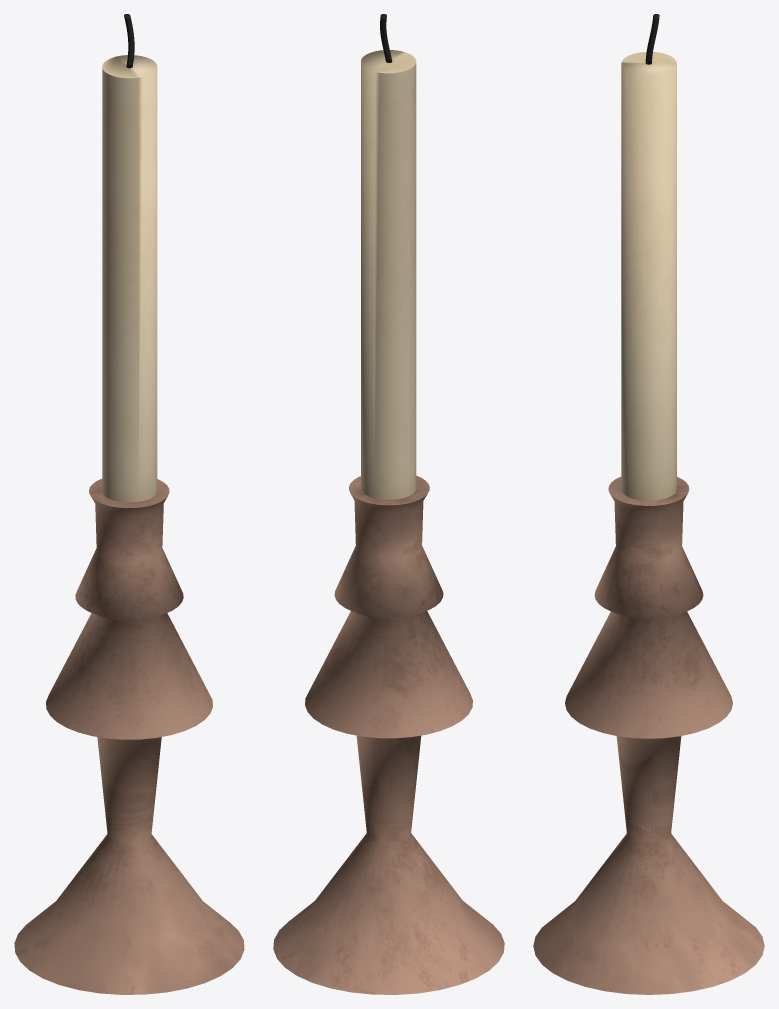
File: CandleUnity.fbx
3 renders of one model, left to right at view 1: azimuth 30°, elevation 25°; view 2: azimuth 150°, elevation 25°; view 3: azimuth 270°, elevation 25°, orthographic.
Visible parts, largest first — view 1: Цилиндр.003; view 2: Цилиндр.003; view 3: Цилиндр.003.
Boxes of the visible parts, x1=… form: Цилиндр.003: x1=14, y1=55, x2=244, y2=994; Цилиндр.003: x1=273, y1=50, x2=504, y2=994; Цилиндр.003: x1=533, y1=52, x2=764, y2=994.
Size of the model in its own units: 37.83 by 168 by 37.83.
